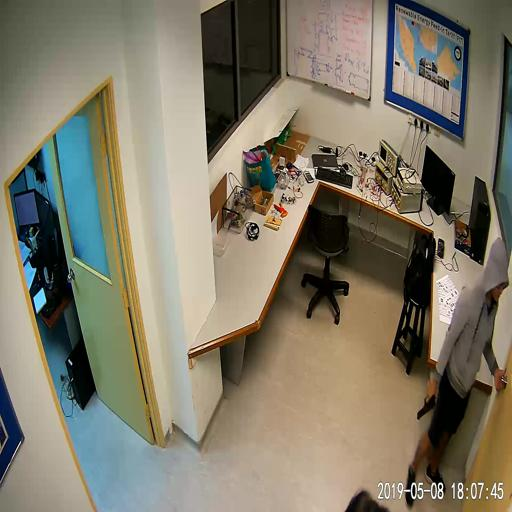pistol: (414, 393, 437, 421)
